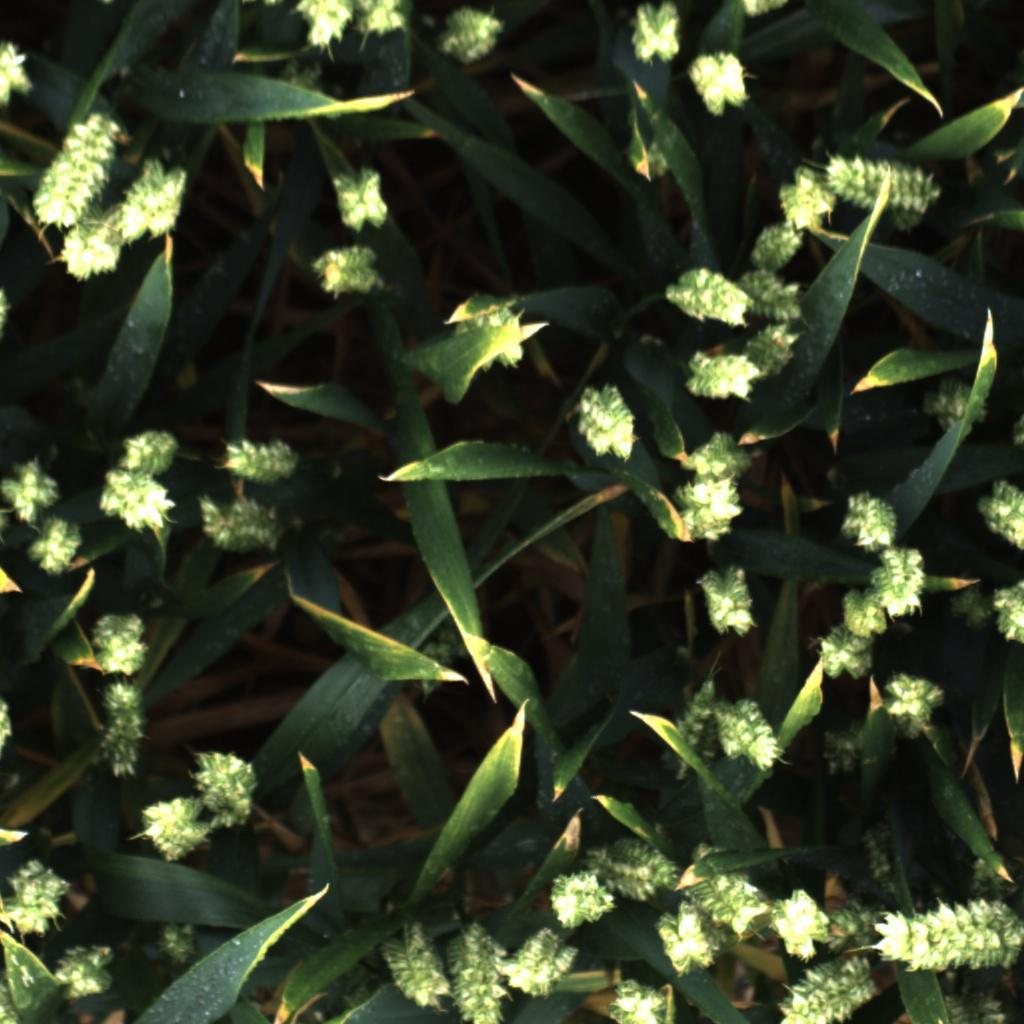0-0: (874, 887, 1024, 975), (30, 111, 126, 228), (771, 884, 890, 962), (826, 150, 940, 224), (760, 156, 845, 242), (443, 296, 528, 381), (122, 153, 199, 245), (668, 252, 759, 329), (780, 957, 883, 1024), (663, 669, 738, 761), (444, 919, 509, 1024), (685, 858, 767, 941), (0, 852, 77, 939), (709, 692, 788, 776), (565, 381, 643, 466), (600, 832, 687, 908), (499, 924, 580, 1000), (674, 471, 755, 546), (382, 925, 448, 1016), (198, 489, 286, 555), (193, 746, 262, 828), (694, 555, 757, 643), (58, 931, 132, 1003), (685, 51, 761, 121), (432, 0, 509, 68), (304, 239, 388, 300), (850, 812, 914, 892), (880, 670, 950, 743), (96, 471, 181, 531), (129, 793, 205, 859), (652, 904, 718, 980), (419, 599, 473, 691), (916, 373, 984, 446), (98, 682, 150, 777), (619, 0, 689, 70), (550, 862, 622, 930), (332, 161, 396, 237), (871, 550, 935, 626), (811, 617, 880, 687), (742, 314, 813, 382), (59, 216, 126, 287), (841, 482, 902, 556), (683, 350, 762, 406), (0, 455, 64, 523), (90, 612, 153, 680), (819, 715, 877, 788), (212, 435, 303, 481), (739, 268, 808, 327), (684, 432, 763, 483), (31, 515, 94, 577), (976, 477, 1024, 558), (834, 580, 894, 643), (608, 974, 682, 1024), (289, 0, 365, 47), (114, 425, 181, 476), (979, 578, 1024, 651), (746, 215, 804, 270), (936, 986, 1014, 1024), (0, 29, 36, 111), (151, 914, 197, 963), (355, 0, 413, 37), (639, 138, 675, 176), (735, 0, 795, 14)
